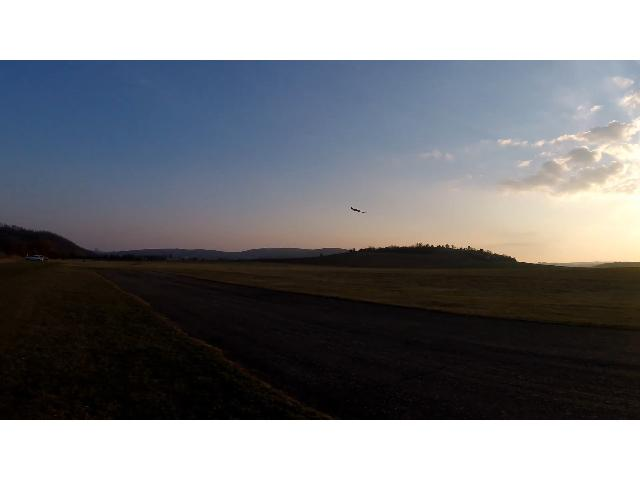Anti-Drone: (351, 207, 367, 213)
